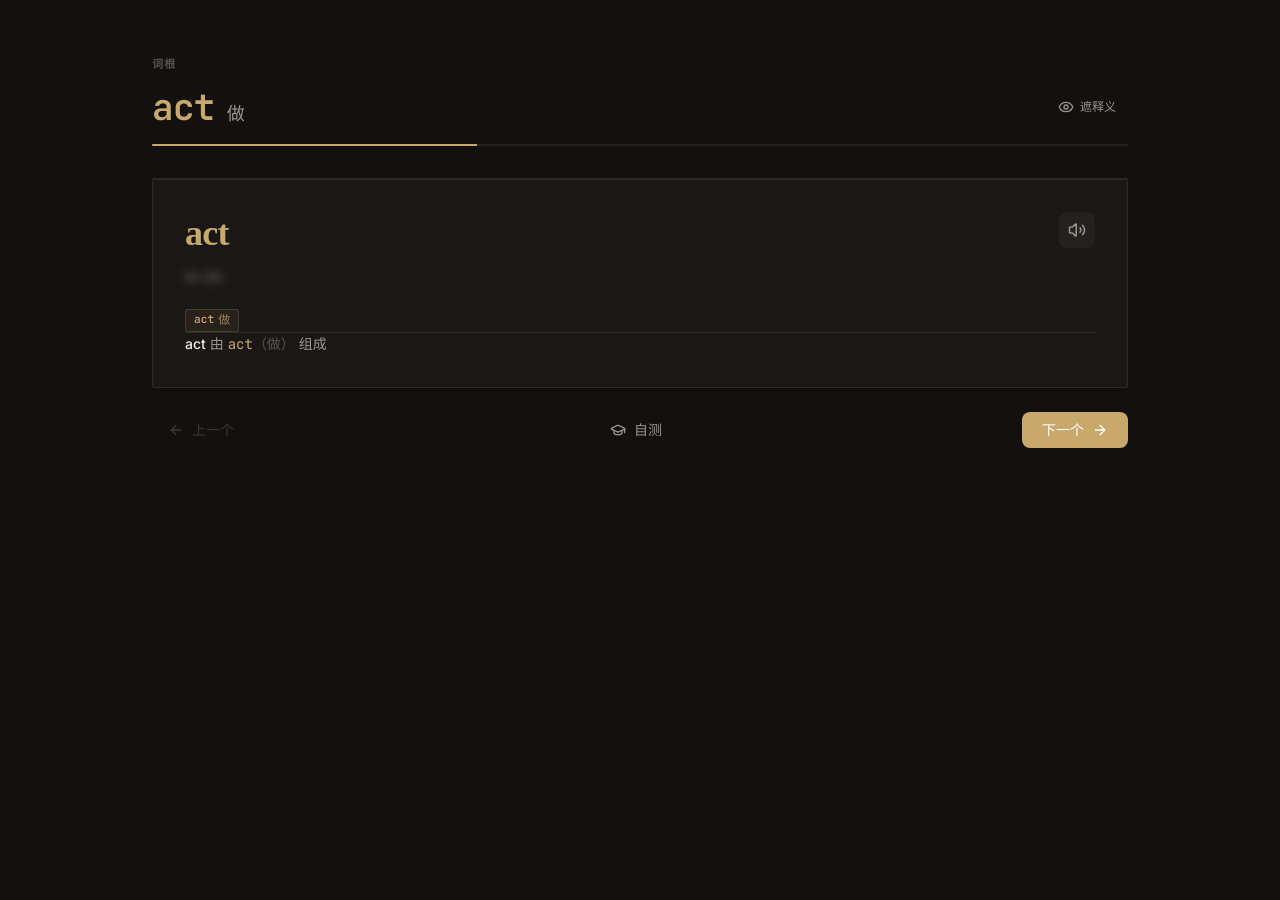
RootSession › marks root completed and shows celebration page after last word
The image size is (1280, 900).
//  走到最后一个词
Click the button "下一个" at x=1075, y=430, box top-left (1022, 412), bottom-right (1128, 448)
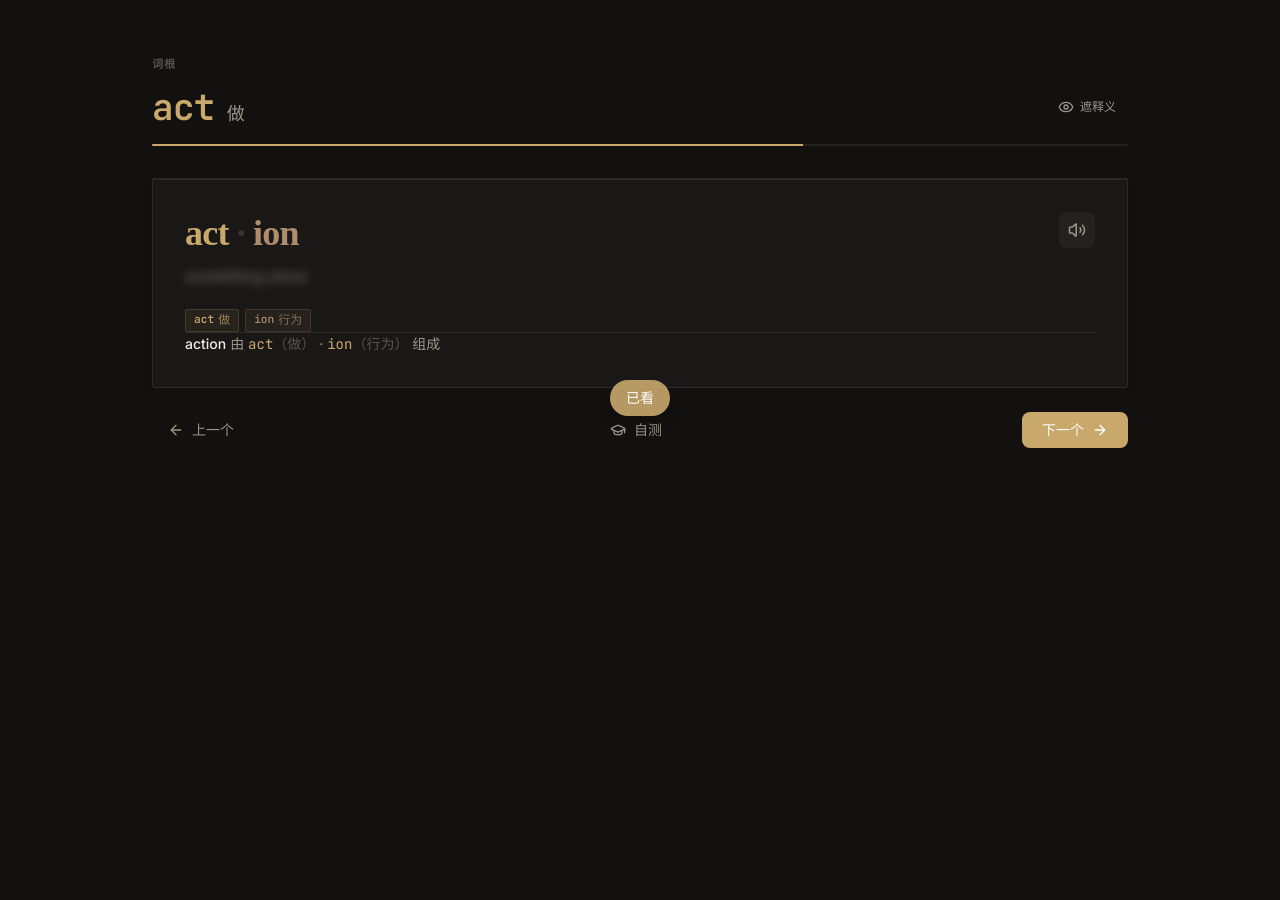
Click the button "下一个" at x=1075, y=430, box top-left (1022, 412), bottom-right (1128, 448)
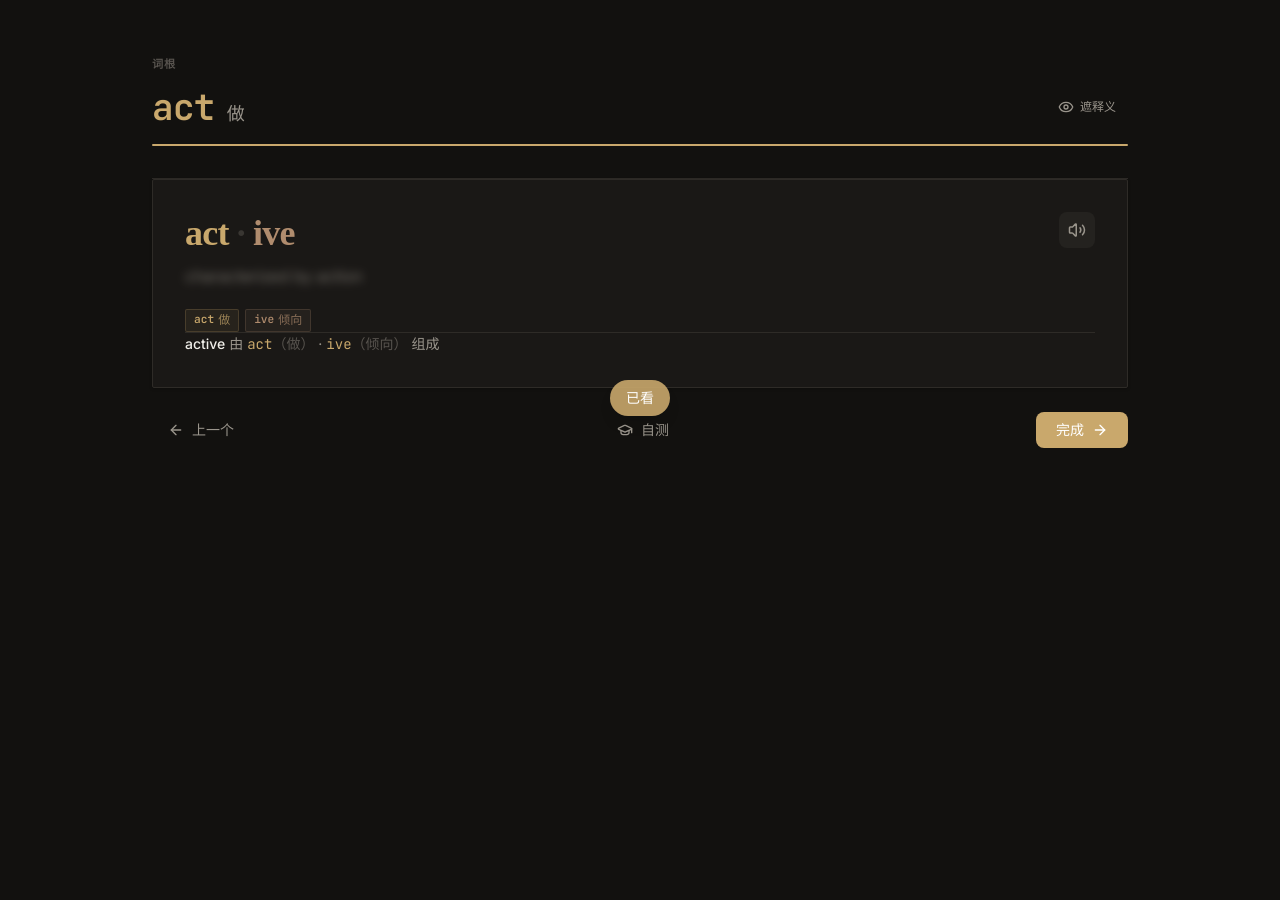
Result: the button "完成" is shown
Click the button "完成" at x=1082, y=430, box top-left (1036, 412), bottom-right (1128, 448)
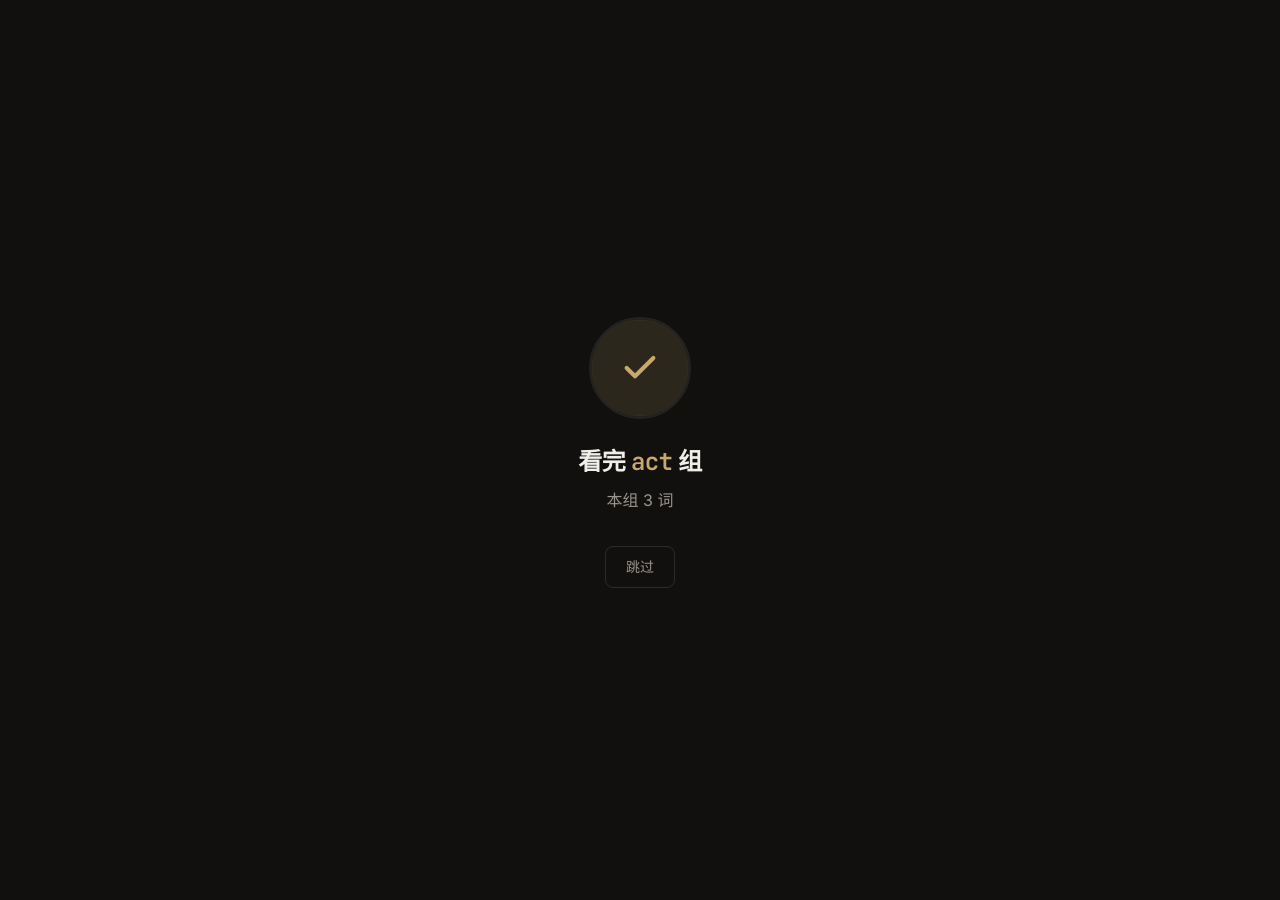
Expected: the text "act" is shown, top-left (631, 446), bottom-right (673, 477)
Result: the heading "看完 act 组" is shown at top-left (578, 448), bottom-right (702, 476)
